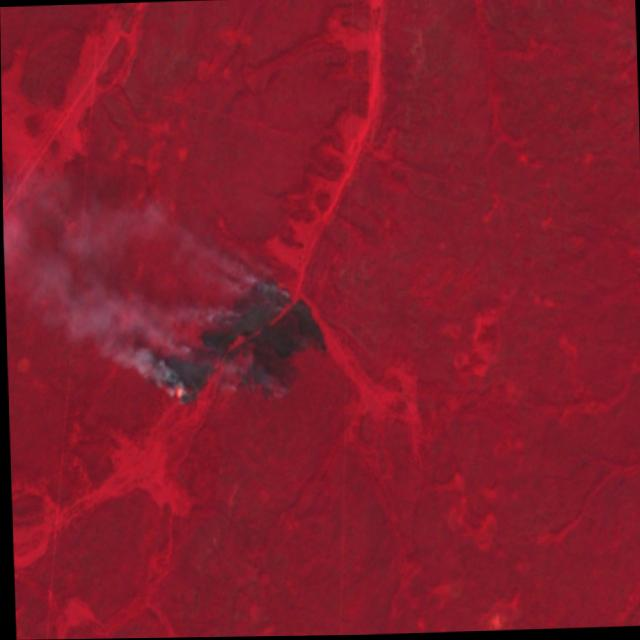fire: (133, 265, 330, 408)
